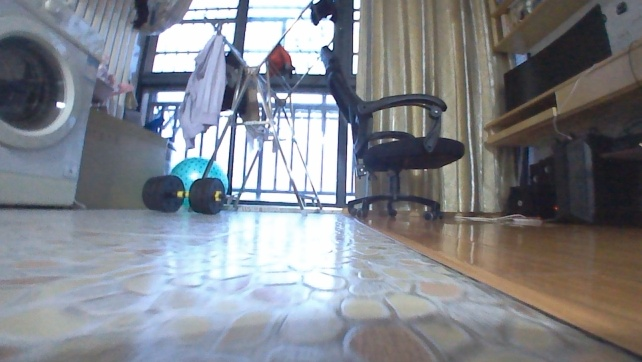washing_machine: (0, 0, 108, 210)
